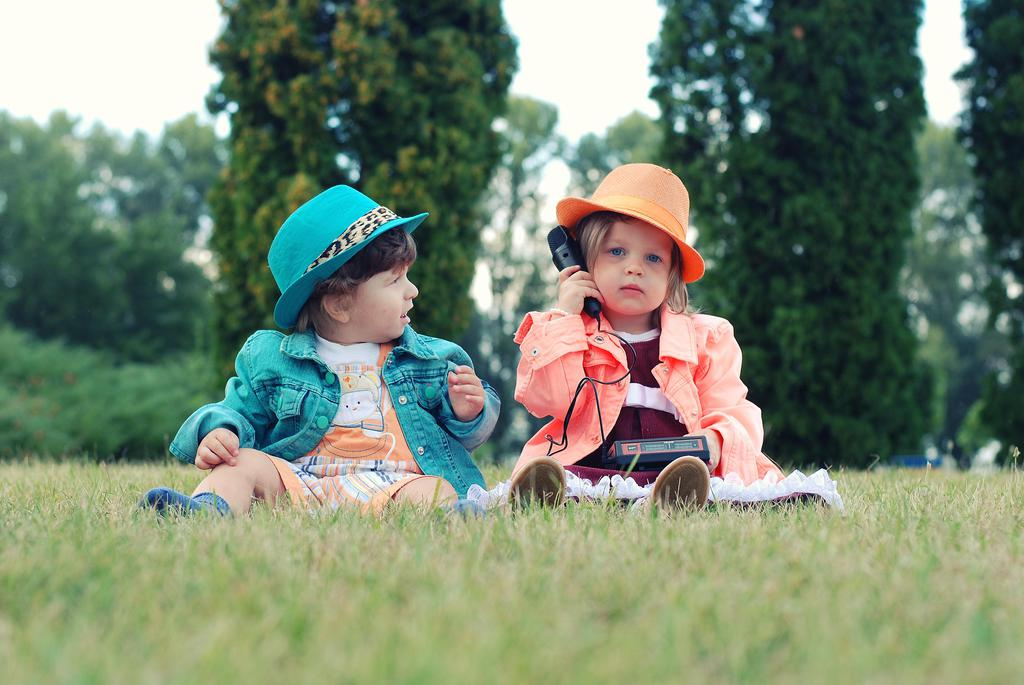child: (479, 155, 832, 532), (136, 184, 501, 541)
